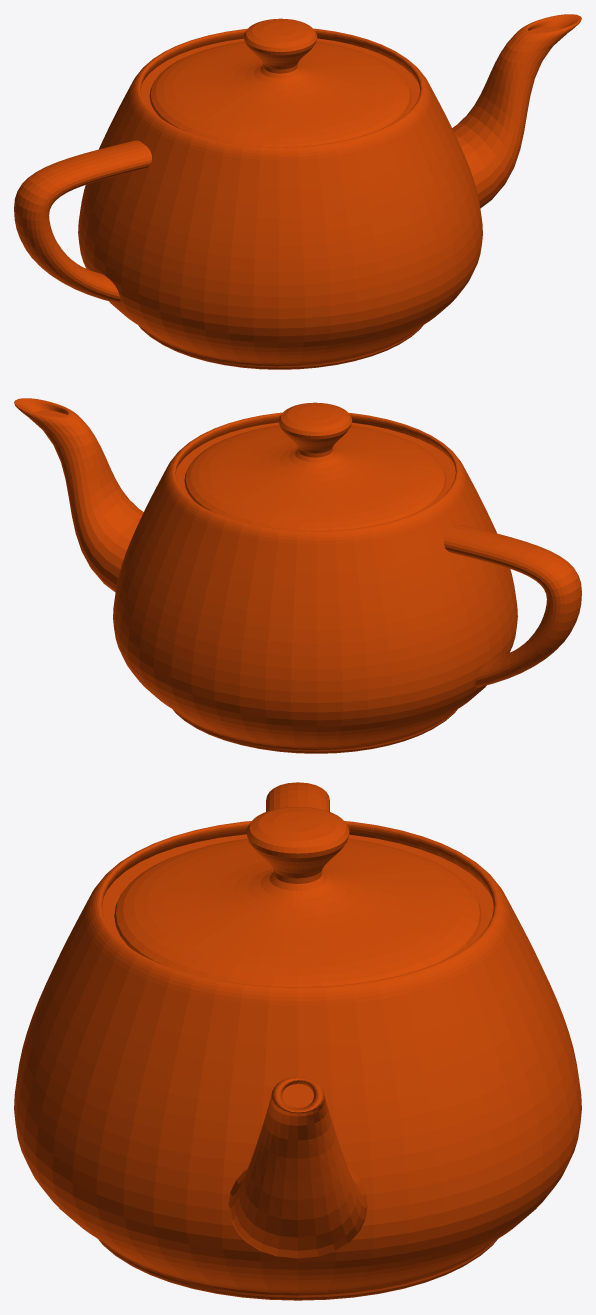
The model's file is Teapot.glb.
3 views of the same model, one above another, from view 1: azimuth 30°, elevation 25°; view 2: azimuth 150°, elevation 25°; view 3: azimuth 270°, elevation 25° (orthographic). The views are drawn at different scales.
Visible parts, largest first — view 1: Utah_teapot_(solid); view 2: Utah_teapot_(solid); view 3: Utah_teapot_(solid).
Part boxes in pixels (<box>): Utah_teapot_(solid): <box>14,14,581,369</box>; Utah_teapot_(solid): <box>14,398,581,753</box>; Utah_teapot_(solid): <box>14,782,581,1300</box>.
Size of the model in its own units: 2 by 0.9743 by 1.24.
